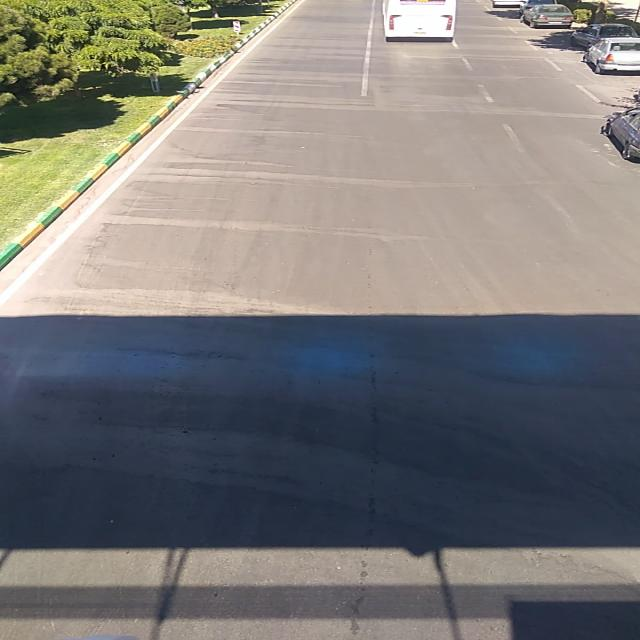bus: (382, 1, 455, 38)
car: (581, 38, 639, 74), (569, 25, 637, 47), (519, 6, 573, 26)
